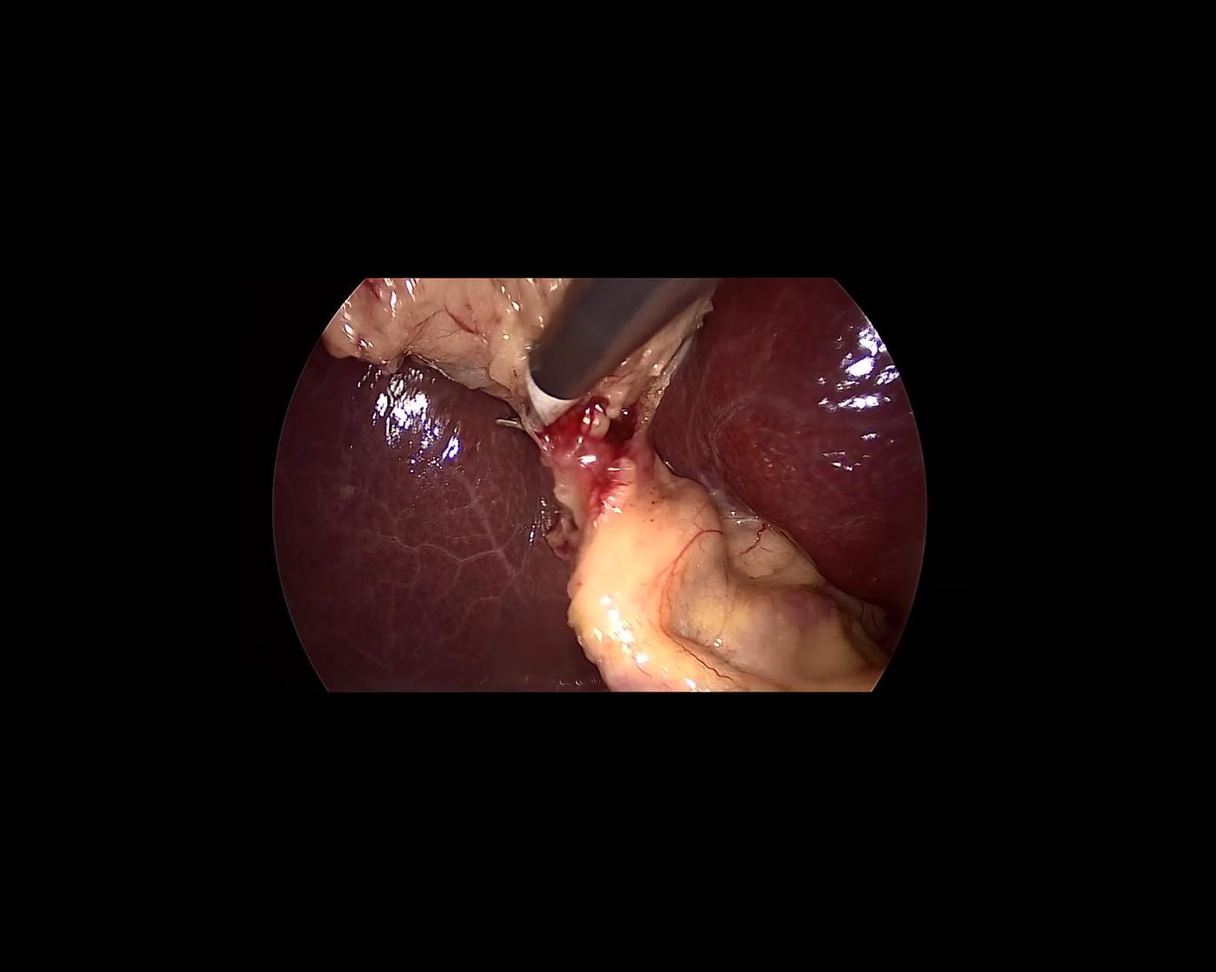Cautery: (460, 210, 721, 453)
Gallbladder: (326, 278, 713, 395)
Liver: (617, 237, 1020, 625), (274, 356, 585, 692)
